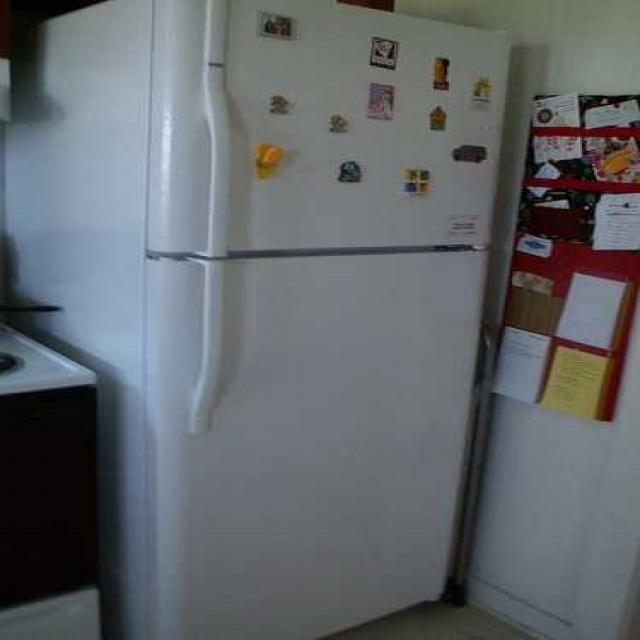refrigerator: (114, 24, 516, 637)
